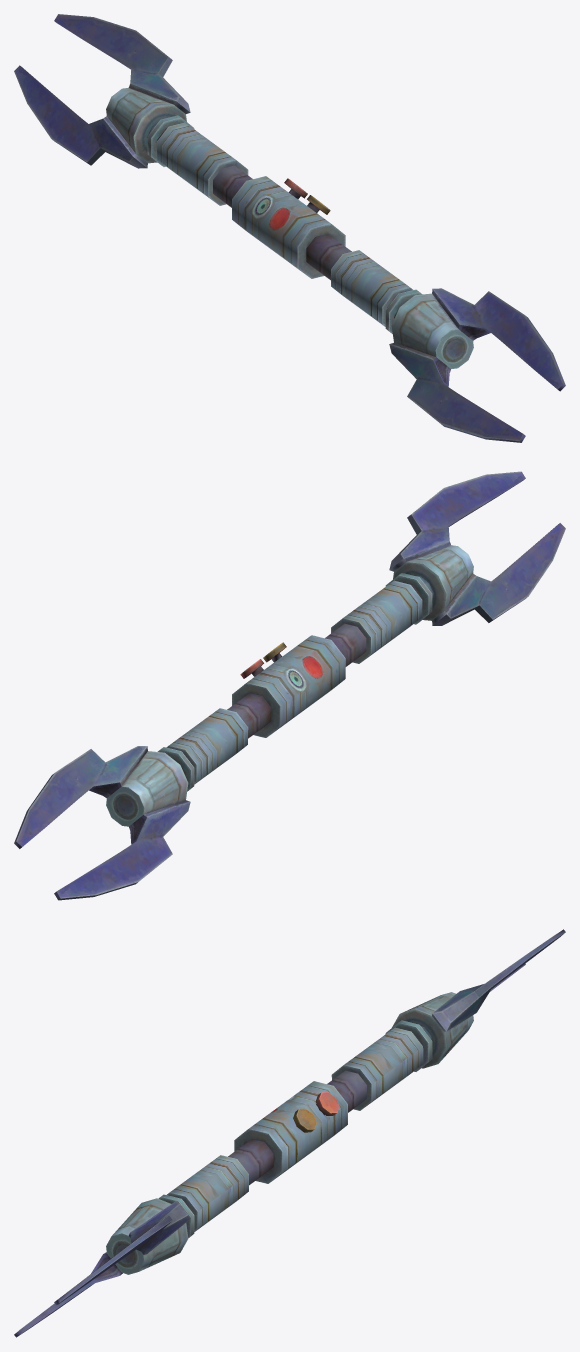
Rendered from staff.glb.
3 renders of one model, top to bottom at view 1: azimuth 30°, elevation 25°; view 2: azimuth 150°, elevation 25°; view 3: azimuth 330°, elevation 25°, orthographic.
Visible parts, largest first — view 1: dualsaber_low01_a01_v01; view 2: dualsaber_low01_a01_v01; view 3: dualsaber_low01_a01_v01.
Part boxes in pixels (bbox=[...]): dualsaber_low01_a01_v01: bbox=[14, 14, 565, 442]; dualsaber_low01_a01_v01: bbox=[14, 471, 565, 900]; dualsaber_low01_a01_v01: bbox=[14, 929, 565, 1337].
Bounding box in the file's own units: 0.00937 × 0.00937 × 0.0939.
1 material, 1 textured.
